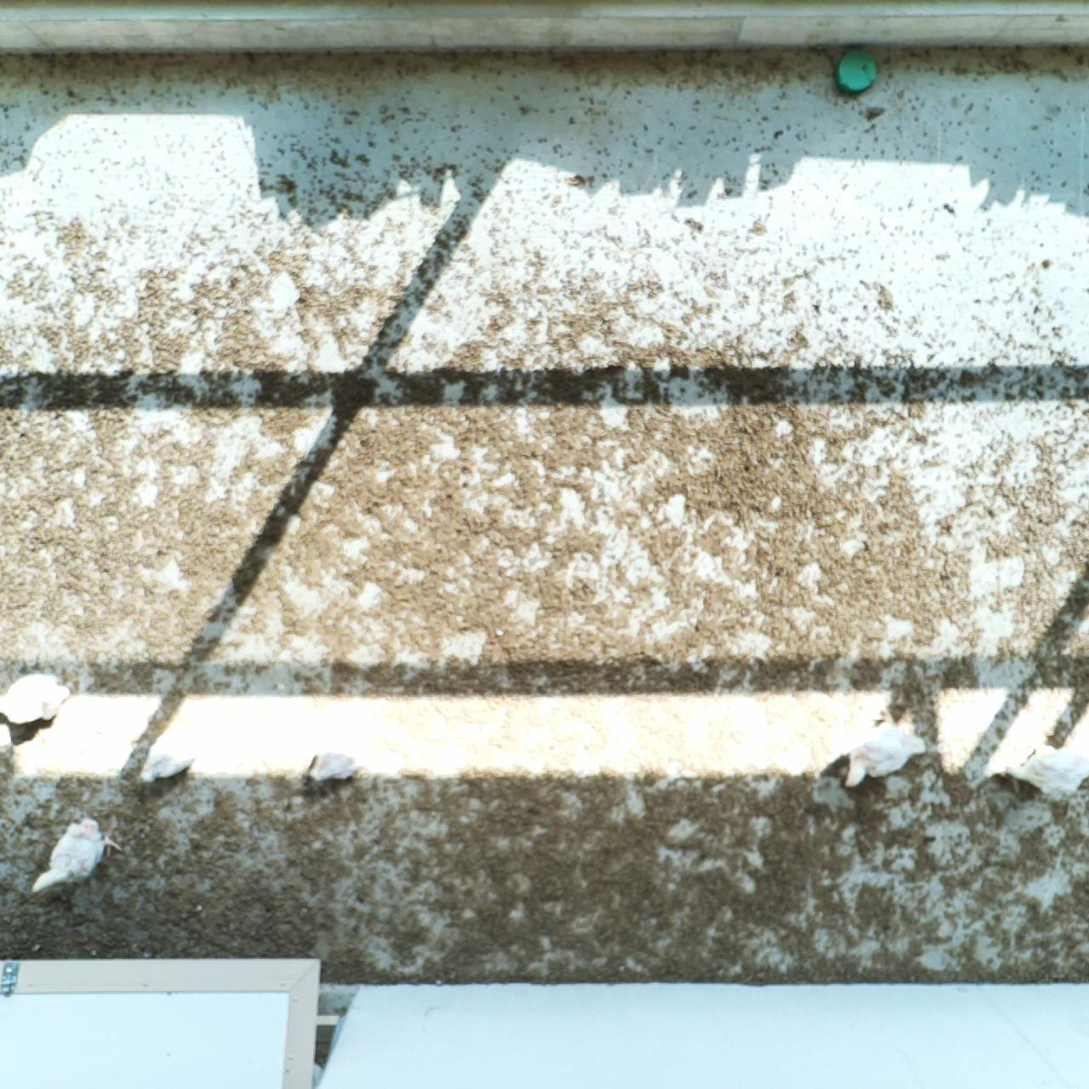chicken: (29, 812, 123, 897), (842, 704, 933, 790), (997, 735, 1089, 804), (302, 710, 382, 784), (138, 721, 207, 787), (0, 667, 73, 728)
